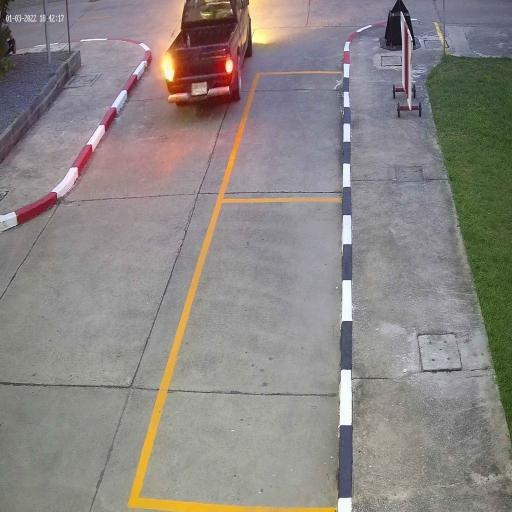car: (162, 0, 252, 109)
